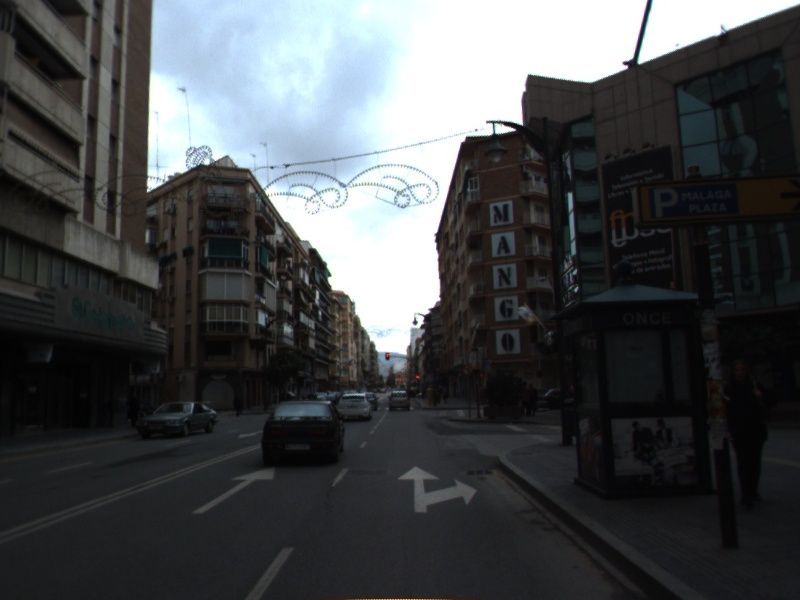STRAIGHT: (189, 463, 279, 516)
STRAIGHT_RIGHT: (394, 464, 480, 515)
